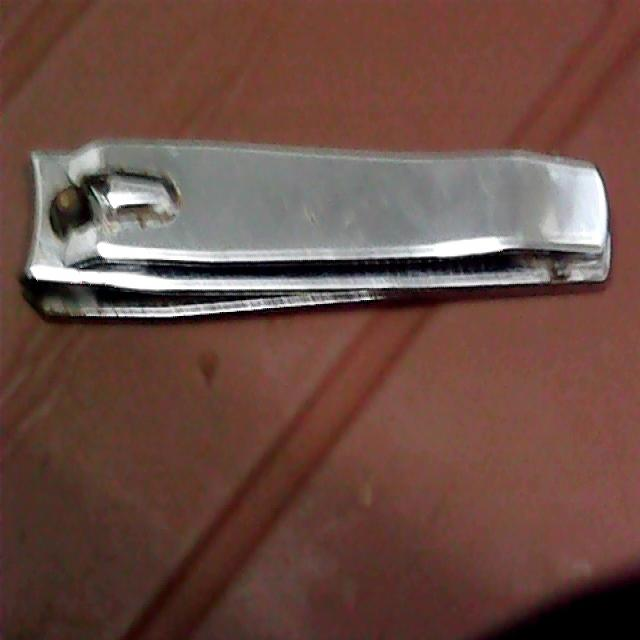Nail_clipper: (23, 139, 610, 317)
